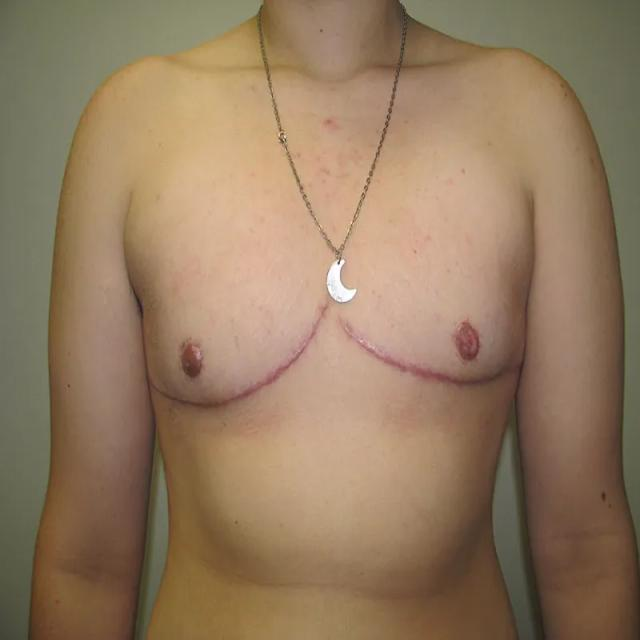Seno herido: (133, 226, 332, 432), (336, 226, 534, 431)
